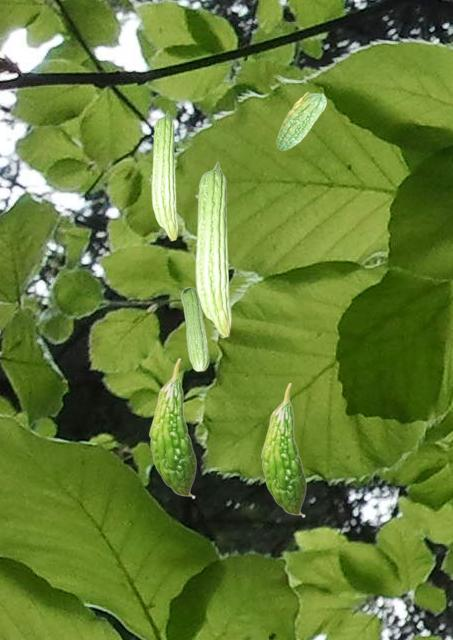ampalaya: (148, 357, 197, 499), (260, 382, 307, 518), (195, 161, 231, 338), (151, 110, 178, 241), (276, 92, 327, 151), (180, 287, 209, 372)
